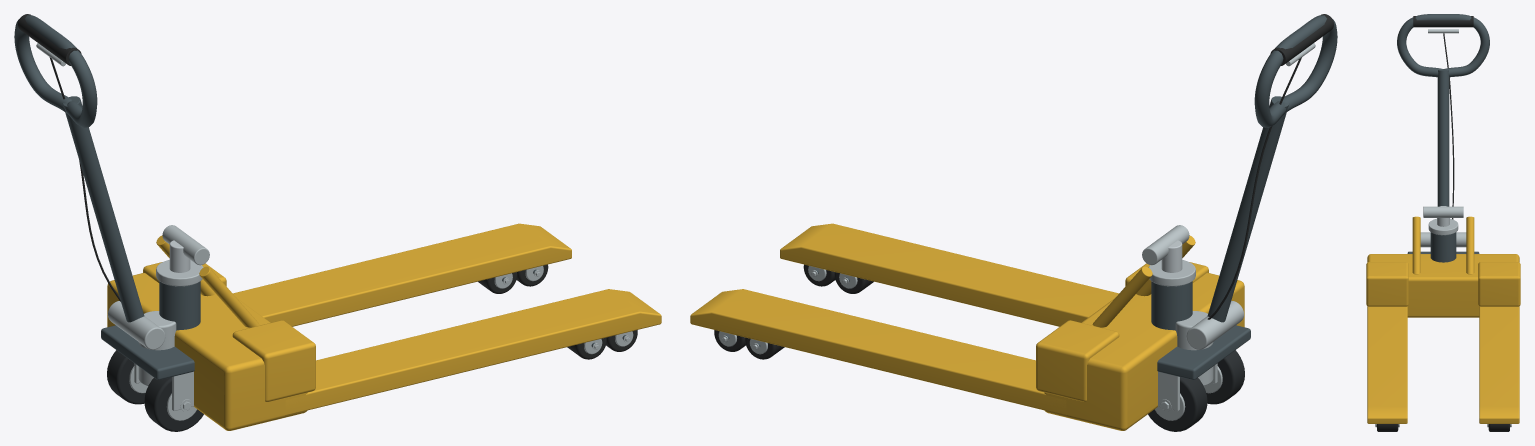
Rendered from city-pallet-jack.glb.
The picture shows the model from 3 angles, left to right: view 1: azimuth 30°, elevation 25°; view 2: azimuth 150°, elevation 25°; view 3: azimuth 270°, elevation 25°; orthographic projection. The views are drawn at different scales.
Visible parts, largest first — view 1: Tapered pallet fork, Tapered pallet fork.001, Fork bridging crossmember, Fork heel reinforcement, Pull handle stem, Loop pull handle, Steering bogie crown, Hydraulic ram body, Rear steering wheel rubber wheel, Handle lower pivot, Rear steering wheel rubber wheel.001, Lifting linkage (+5 smaller); view 2: Tapered pallet fork.001, Tapered pallet fork, Fork bridging crossmember, Fork heel reinforcement.001, Pull handle stem, Loop pull handle, Steering bogie crown, Hydraulic ram body, Rear steering wheel rubber wheel.001, Handle lower pivot, Rear steering wheel rubber wheel, Lifting linkage.001 (+6 smaller); view 3: Tapered pallet fork, Tapered pallet fork.001, Fork bridging crossmember, Loop pull handle, Fork heel reinforcement, Fork heel reinforcement.001, Pull handle stem, Hydraulic ram body, Lifting linkage, Lifting linkage.001, Rubber handle grip, Ram upper pivot (+5 smaller).
Part boxes in pixels (x1=…): Tapered pallet fork: x1=285, y1=289, x2=661, y2=415; Tapered pallet fork.001: x1=233, y1=223, x2=571, y2=326; Fork bridging crossmember: x1=107, y1=273, x2=307, y2=430; Fork heel reinforcement: x1=232, y1=320, x2=315, y2=401; Pull handle stem: x1=62, y1=96, x2=144, y2=322; Loop pull handle: x1=14, y1=15, x2=97, y2=127; Steering bogie crown: x1=101, y1=325, x2=194, y2=379; Hydraulic ram body: x1=159, y1=281, x2=200, y2=330; Rear steering wheel rubber wheel: x1=144, y1=377, x2=203, y2=431; Handle lower pivot: x1=108, y1=301, x2=165, y2=349; Rear steering wheel rubber wheel.001: x1=107, y1=350, x2=145, y2=404; Lifting linkage: x1=199, y1=266, x2=259, y2=327; Tapered pallet fork.001: x1=690, y1=289, x2=1066, y2=415; Tapered pallet fork: x1=780, y1=223, x2=1118, y2=326; Fork bridging crossmember: x1=1044, y1=273, x2=1244, y2=430; Fork heel reinforcement.001: x1=1036, y1=320, x2=1119, y2=401; Pull handle stem: x1=1207, y1=96, x2=1289, y2=322; Loop pull handle: x1=1254, y1=15, x2=1337, y2=127; Steering bogie crown: x1=1157, y1=325, x2=1250, y2=379; Hydraulic ram body: x1=1151, y1=281, x2=1192, y2=330; Rear steering wheel rubber wheel.001: x1=1148, y1=377, x2=1207, y2=431; Handle lower pivot: x1=1186, y1=300, x2=1243, y2=349; Rear steering wheel rubber wheel: x1=1206, y1=350, x2=1244, y2=404; Lifting linkage.001: x1=1092, y1=266, x2=1152, y2=327; Tapered pallet fork: x1=1367, y1=306, x2=1407, y2=423; Tapered pallet fork.001: x1=1479, y1=306, x2=1519, y2=423; Fork bridging crossmember: x1=1367, y1=254, x2=1519, y2=317; Loop pull handle: x1=1397, y1=14, x2=1489, y2=77; Fork heel reinforcement: x1=1366, y1=262, x2=1408, y2=306; Fork heel reinforcement.001: x1=1478, y1=262, x2=1520, y2=306; Pull handle stem: x1=1437, y1=70, x2=1449, y2=206; Hydraulic ram body: x1=1430, y1=232, x2=1456, y2=262; Lifting linkage: x1=1412, y1=216, x2=1420, y2=274; Lifting linkage.001: x1=1466, y1=216, x2=1474, y2=274; Rubber handle grip: x1=1413, y1=16, x2=1473, y2=27; Ram upper pivot: x1=1423, y1=206, x2=1463, y2=217.
Bounding box in the file's own units: 1.81 × 1.27 × 0.69.
